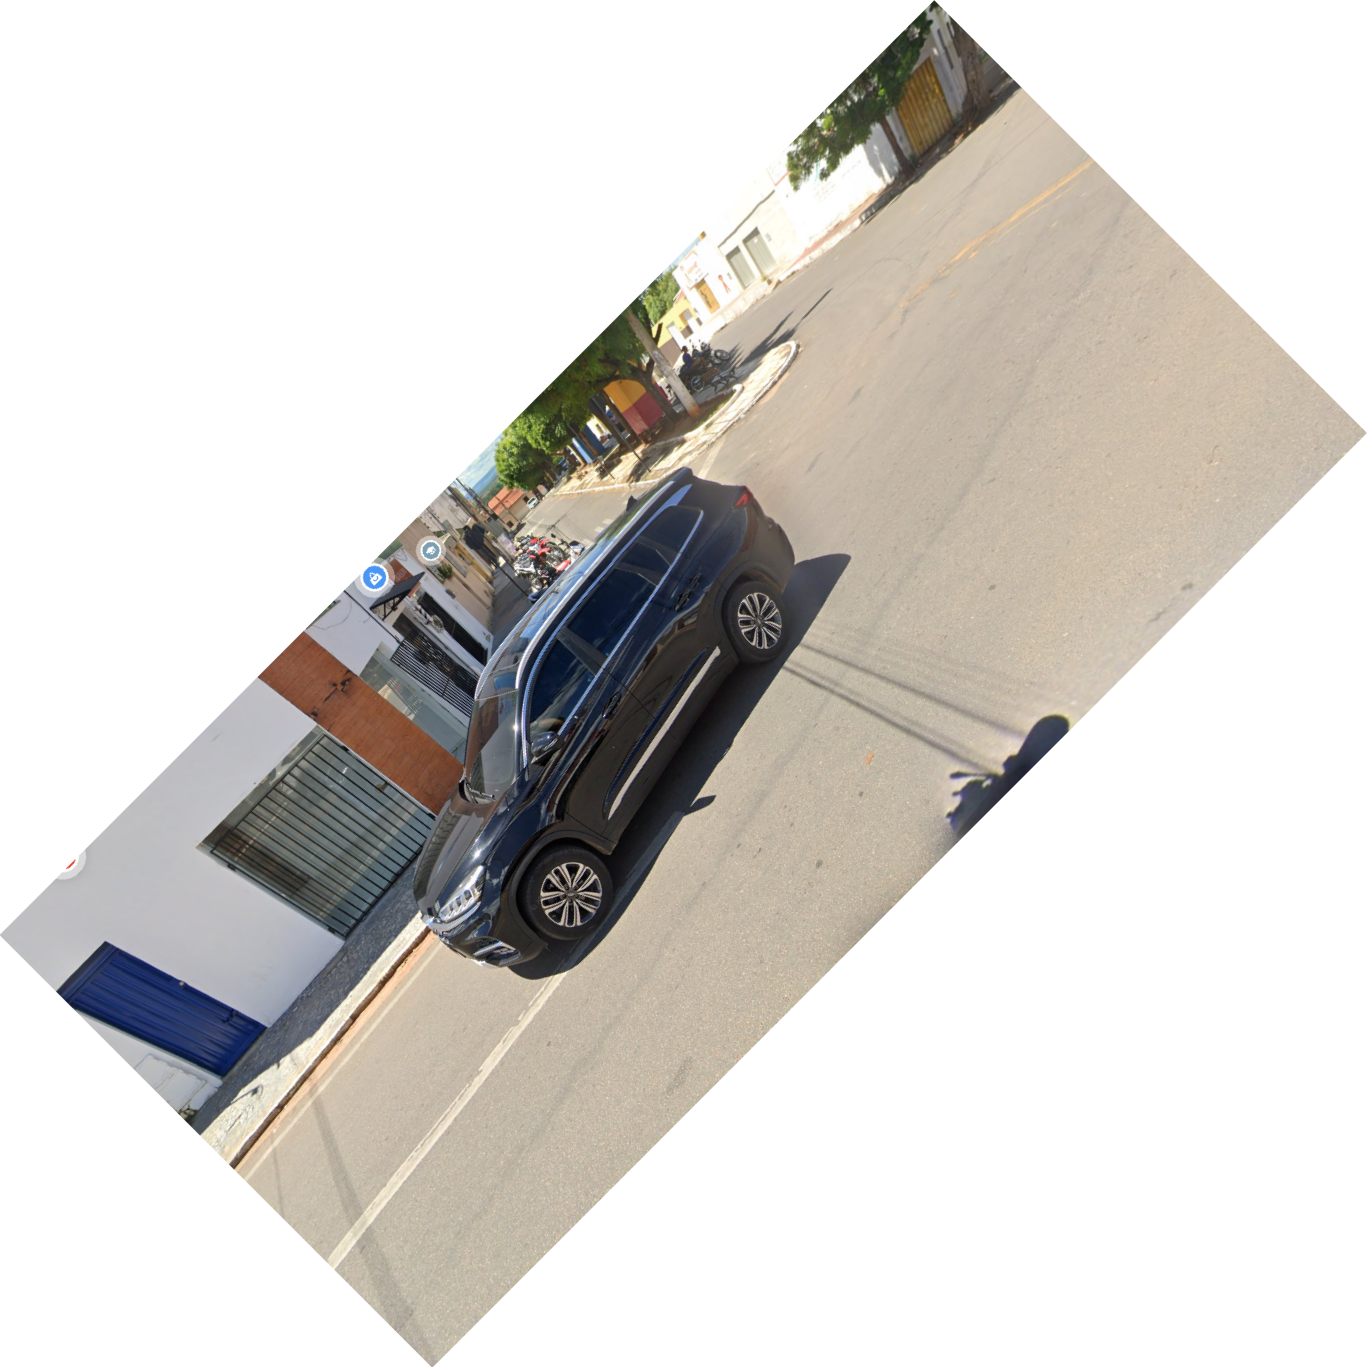car: (407, 463, 817, 1016)
